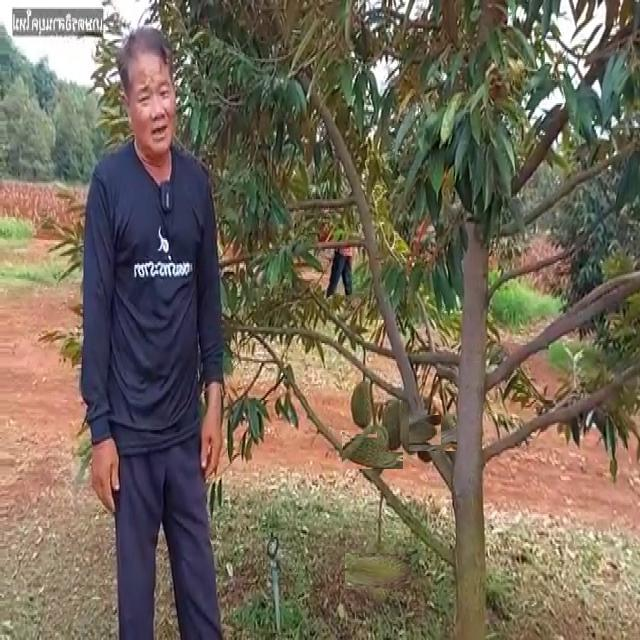durian: (353, 546, 404, 597), (347, 426, 397, 475), (434, 408, 463, 477), (391, 409, 435, 452), (377, 398, 409, 452), (406, 420, 447, 460), (349, 379, 376, 434)
